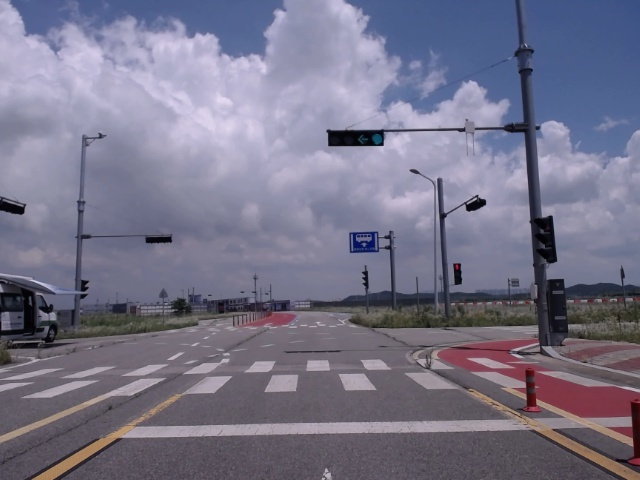all_green_4: (329, 131, 385, 145)
